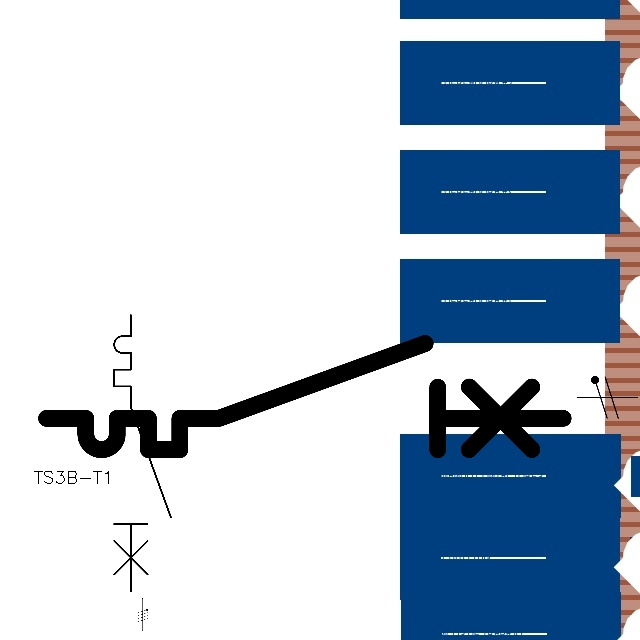interruptor_termomagnetico: (33, 330, 577, 463), (107, 308, 178, 598)
